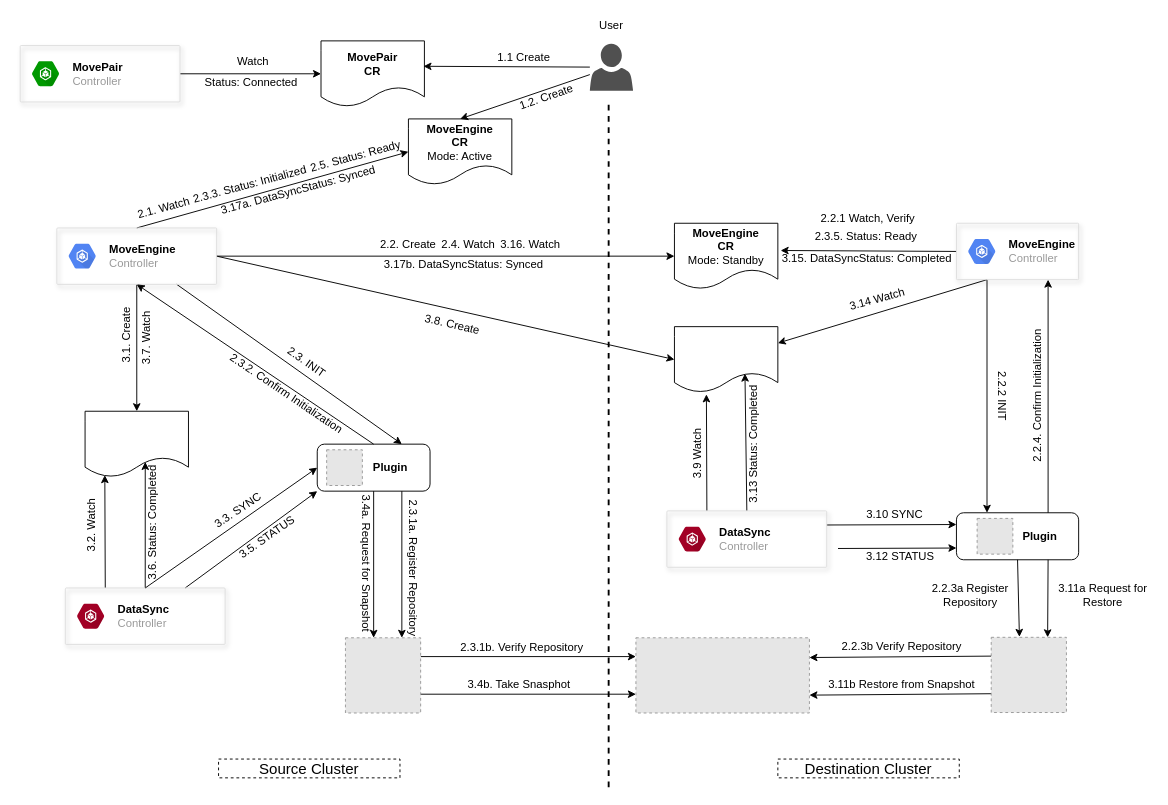
The diagram is 1168 pixels wide and 805 high, and some of its shapes have lost their labels. Grey dashed boxes stand in for pictures. The centre of each missing label's shape, as x and y in pixels:
DataSync CR Mode: Backup: point 136,443
DataSync CR Mode: Restore: point 726,359
